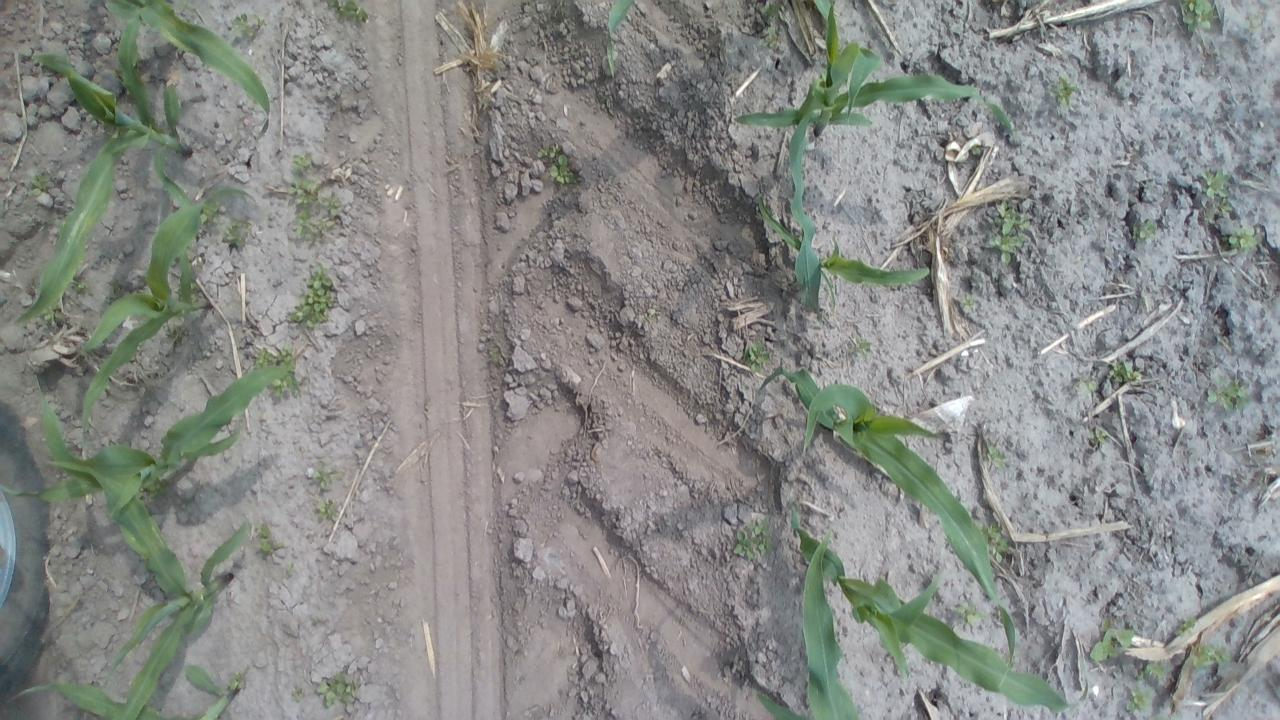Maize: (732, 0, 1024, 318), (751, 359, 1021, 697), (787, 498, 1073, 720), (13, 9, 201, 328), (43, 453, 253, 720), (75, 187, 262, 455), (0, 358, 297, 526), (750, 188, 934, 317), (105, 0, 272, 138), (0, 669, 254, 720), (600, 0, 639, 78), (750, 692, 810, 720)
Weeds: (286, 154, 342, 241), (290, 270, 341, 330), (985, 202, 1031, 268), (254, 346, 303, 400), (1090, 616, 1136, 664), (729, 512, 772, 560), (314, 667, 364, 708), (536, 142, 580, 184), (1204, 375, 1254, 410), (754, 0, 788, 51), (1199, 166, 1232, 218), (1180, 0, 1218, 37), (979, 522, 1012, 564), (321, 0, 374, 25), (1054, 72, 1084, 116), (1186, 642, 1232, 670), (1224, 222, 1266, 250), (743, 338, 775, 374), (1106, 357, 1140, 388), (230, 13, 266, 42), (1124, 686, 1158, 716), (224, 219, 253, 252), (255, 522, 282, 556), (951, 603, 988, 627), (983, 441, 1010, 472), (1128, 218, 1162, 242), (1137, 657, 1169, 681), (194, 200, 225, 224), (846, 334, 875, 358), (310, 466, 340, 488), (316, 498, 343, 520), (28, 173, 52, 197), (1076, 376, 1102, 398), (1174, 618, 1200, 640), (146, 481, 173, 502), (36, 302, 58, 322), (958, 292, 978, 314), (1090, 424, 1108, 448), (228, 672, 248, 691), (289, 684, 306, 702), (72, 277, 90, 294), (283, 560, 297, 578), (970, 142, 986, 156)
